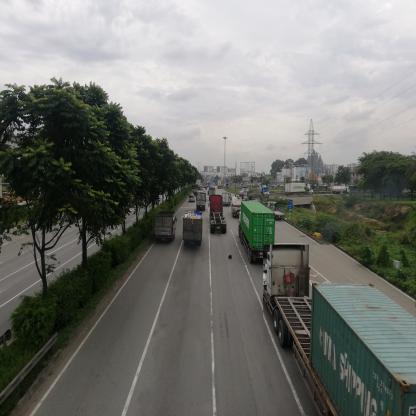car: (190, 196, 196, 204)
container: (264, 245, 416, 416), (240, 203, 276, 264), (212, 197, 228, 234), (286, 184, 314, 197)
truck: (183, 212, 205, 247), (156, 212, 176, 242), (333, 184, 350, 195), (197, 195, 206, 212), (223, 194, 232, 208)
